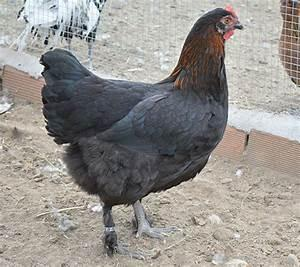hen: (38, 4, 244, 260)
